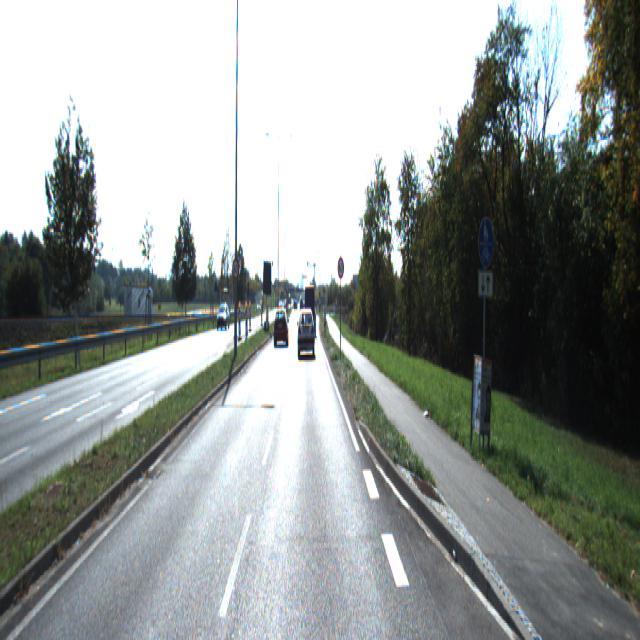Car: (298, 312, 315, 358), (273, 310, 289, 350), (304, 289, 315, 339), (217, 305, 230, 333)
